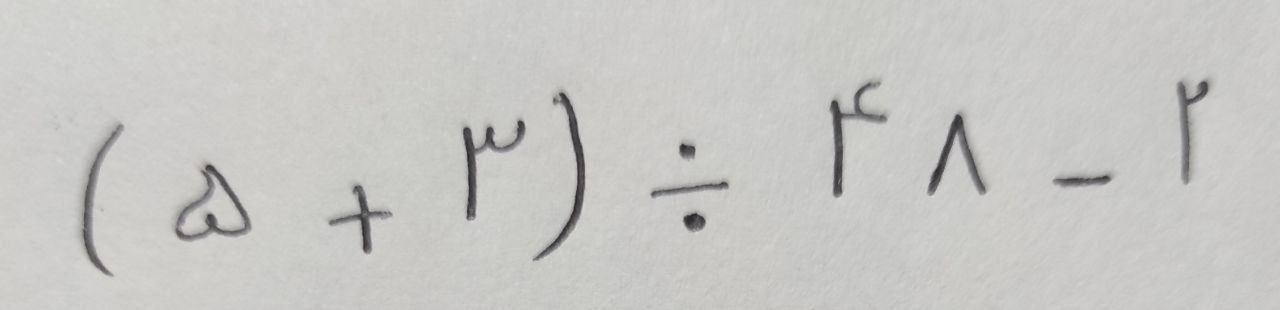character: (534, 90, 587, 264), (651, 143, 731, 234), (829, 79, 889, 199), (82, 122, 127, 279), (464, 119, 528, 222), (175, 163, 254, 243), (925, 112, 989, 197), (330, 183, 396, 256), (1174, 80, 1211, 184), (1055, 174, 1112, 189)
